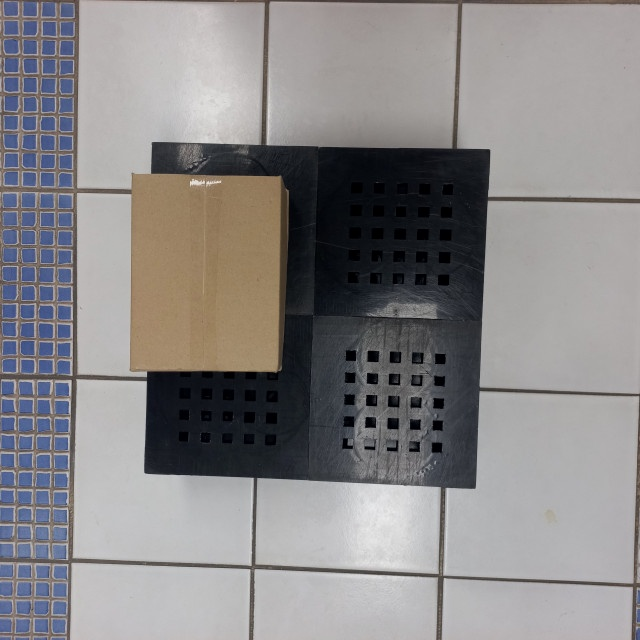box: (129, 169, 288, 375)
pallet: (125, 140, 503, 502)
